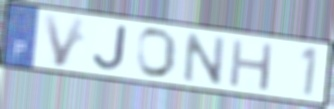1: (298, 46, 318, 100)
H: (227, 37, 277, 94)
J: (91, 23, 130, 72)
N: (182, 30, 228, 87)
O: (136, 27, 180, 80)
V: (41, 12, 89, 69)
